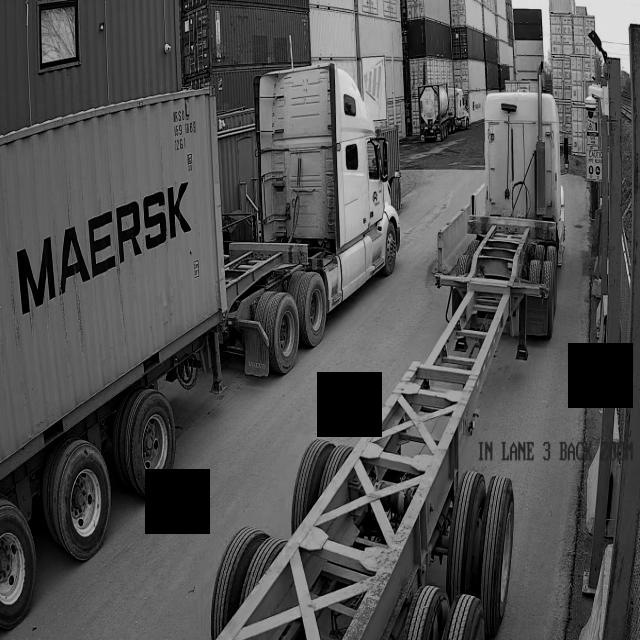container_company_logo: (17, 182, 190, 313)
container_number: (169, 107, 200, 174)
truck_with_container: (0, 62, 401, 628), (58, 211, 117, 294), (142, 186, 190, 248), (17, 237, 55, 313), (115, 203, 142, 262)
truck_without_container: (183, 84, 566, 640)
